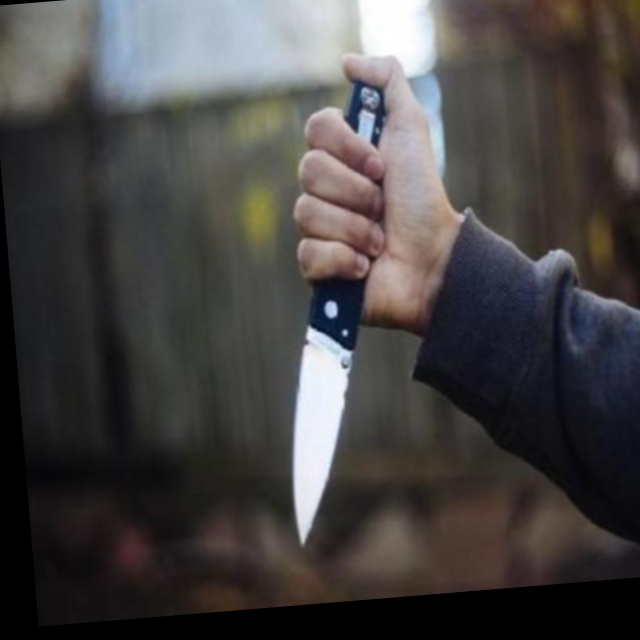Sharp-Object: (258, 79, 420, 546)
